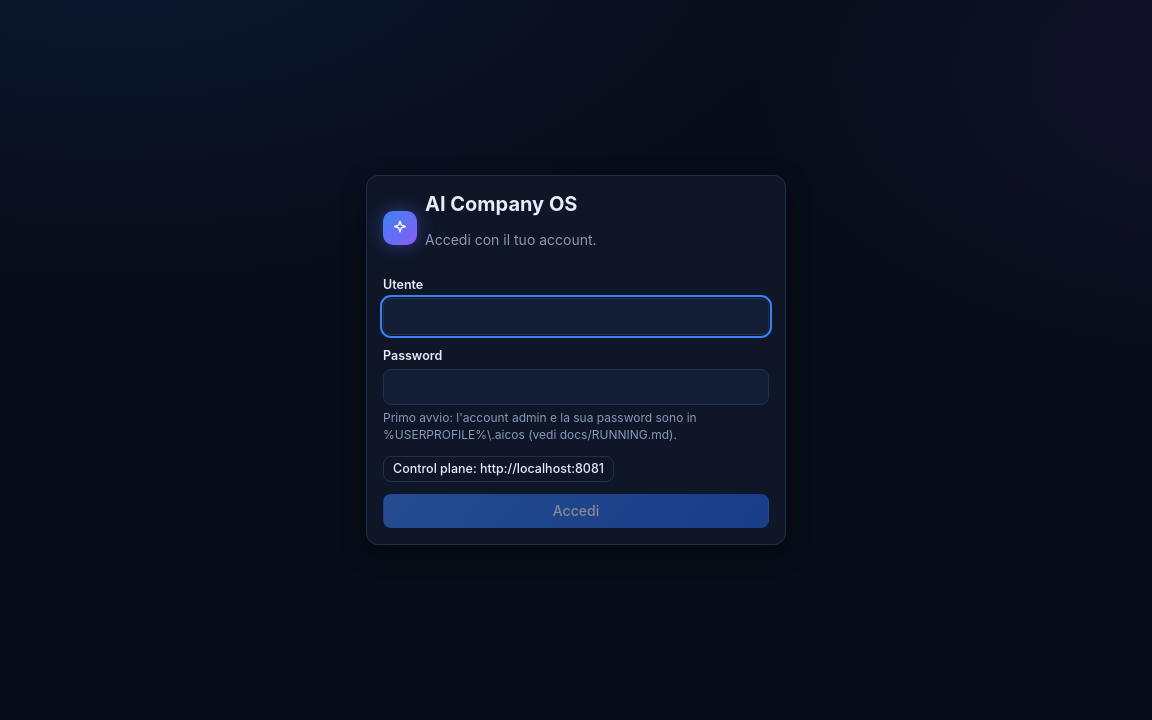
Test case: sign-in (ADR-024) › explains a refused sign-in in words and clears the password field
The image size is (1152, 720).
In the field labelled "Utente": (576, 316) 383,298 -> 769,335, type "admin"
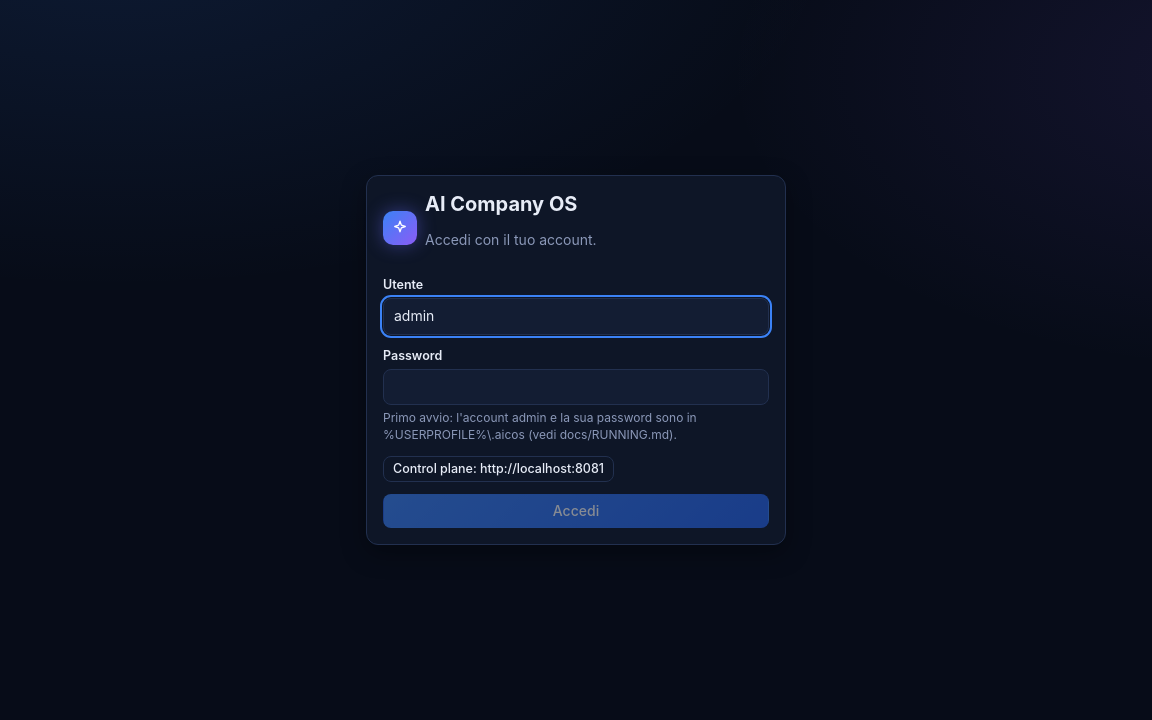
In the password field labelled "Password": (576, 387) 383,369 -> 769,405, type "wrong-password"
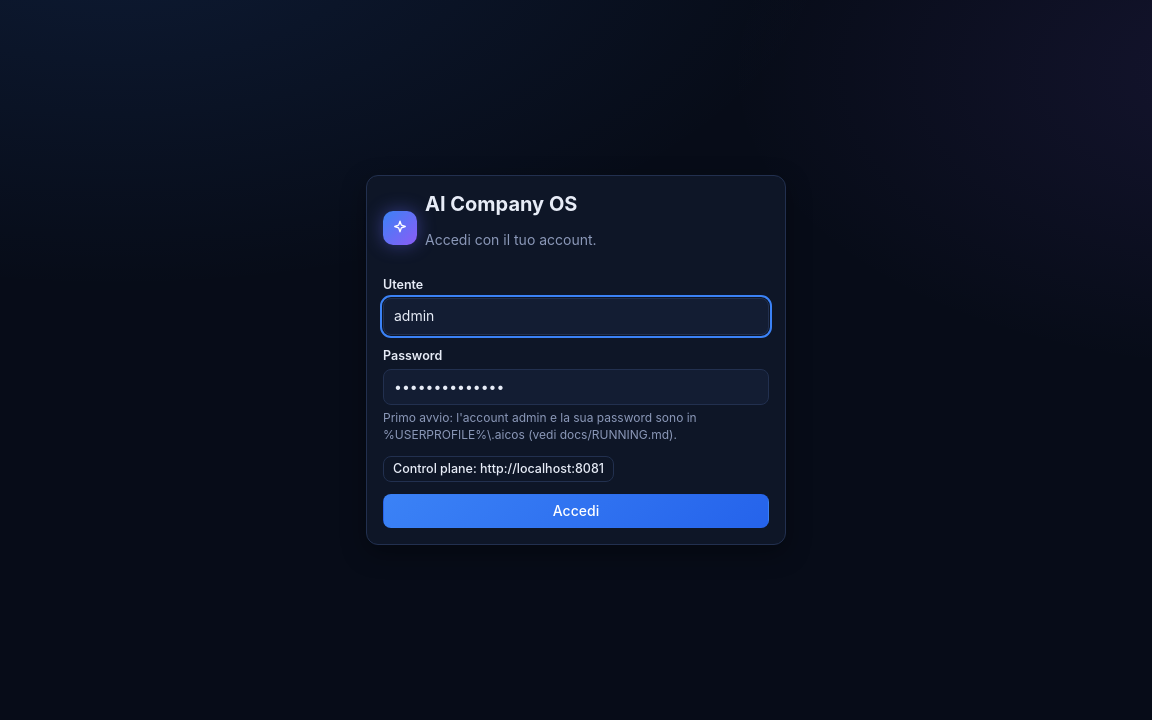
Click the button "Accedi": (576, 511) 383,494 -> 769,528
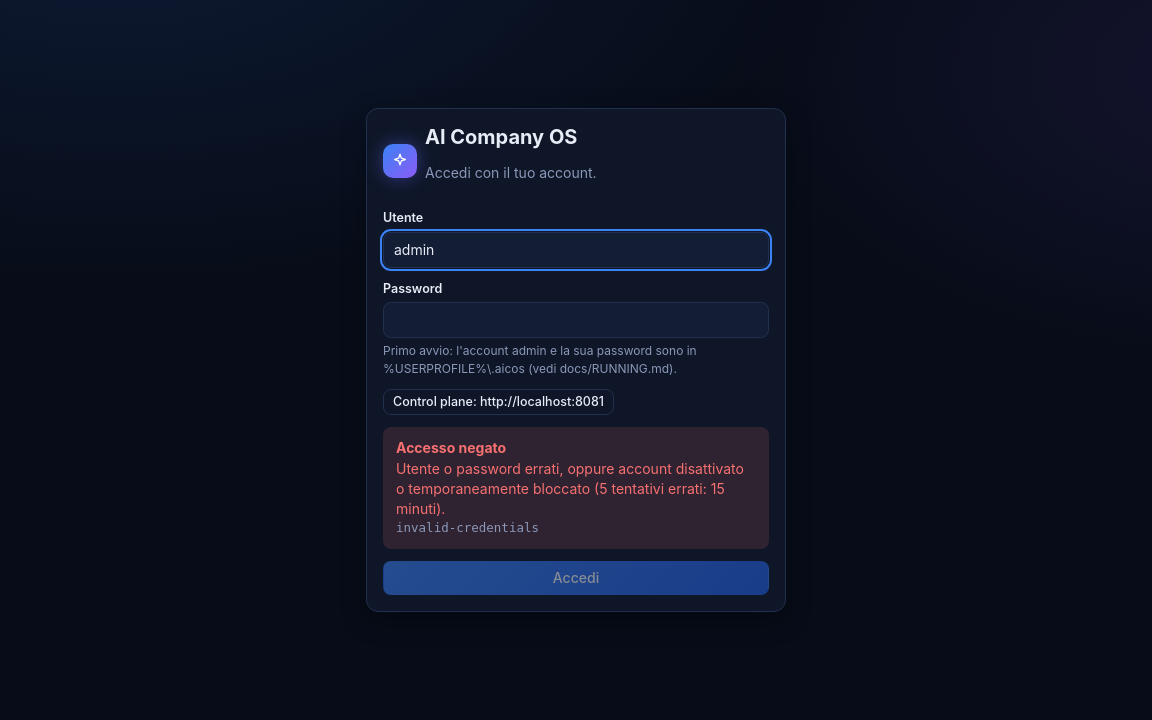
Check: the text "Accesso negato" is shown, box 396,438 -> 506,458
Check: the password field labelled "Password" is empty, box 383,302 -> 769,338
